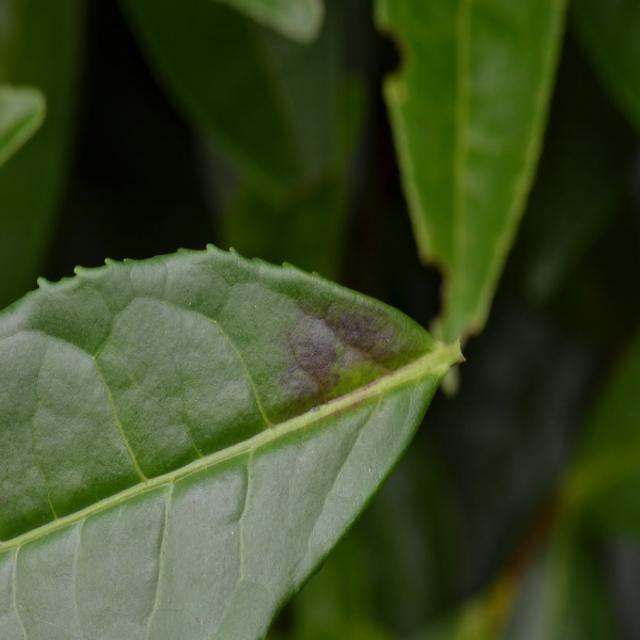Tea exobasidium blight: (262, 290, 400, 409)
